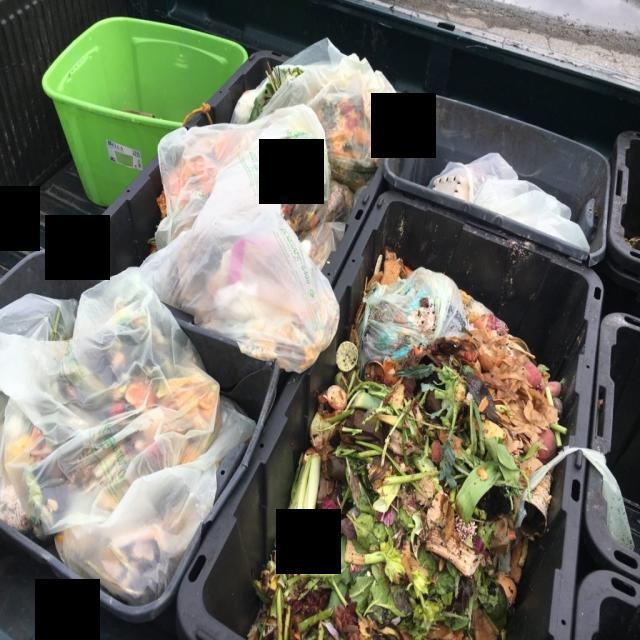Garbage: (250, 248, 565, 638), (141, 40, 401, 371), (0, 268, 255, 604), (431, 153, 586, 244)
Plastic_Bag: (0, 268, 220, 535), (140, 152, 339, 372), (55, 399, 252, 605), (231, 38, 401, 189), (158, 105, 330, 242), (465, 153, 589, 251), (356, 268, 466, 366), (0, 293, 78, 341)
